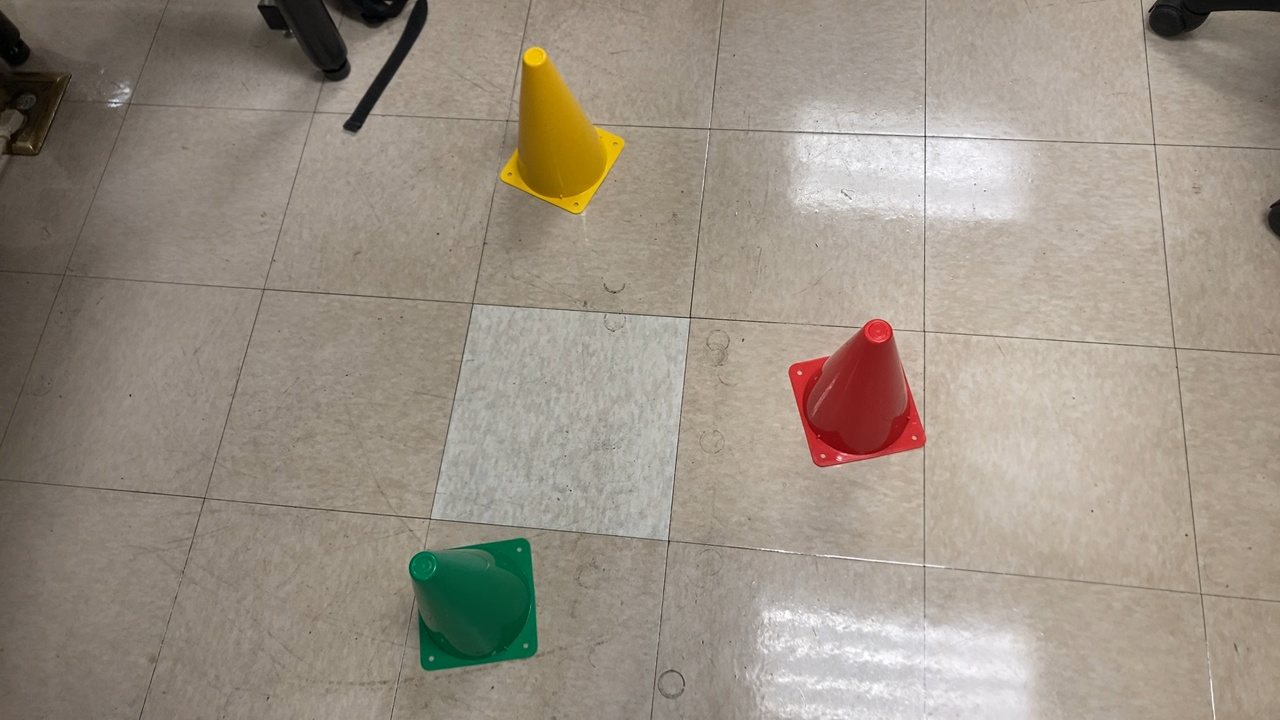green_cone: (406, 530, 538, 673)
red_cone: (784, 317, 934, 475)
yellow_cone: (492, 47, 628, 218)
